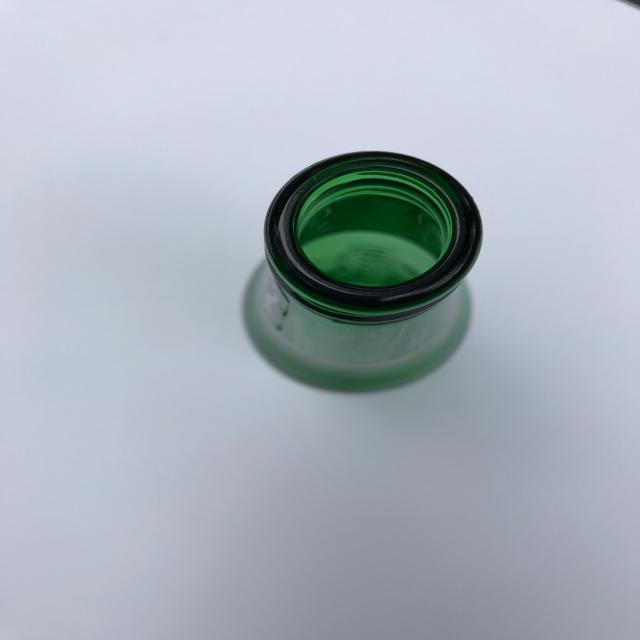glass: (238, 150, 482, 397)
